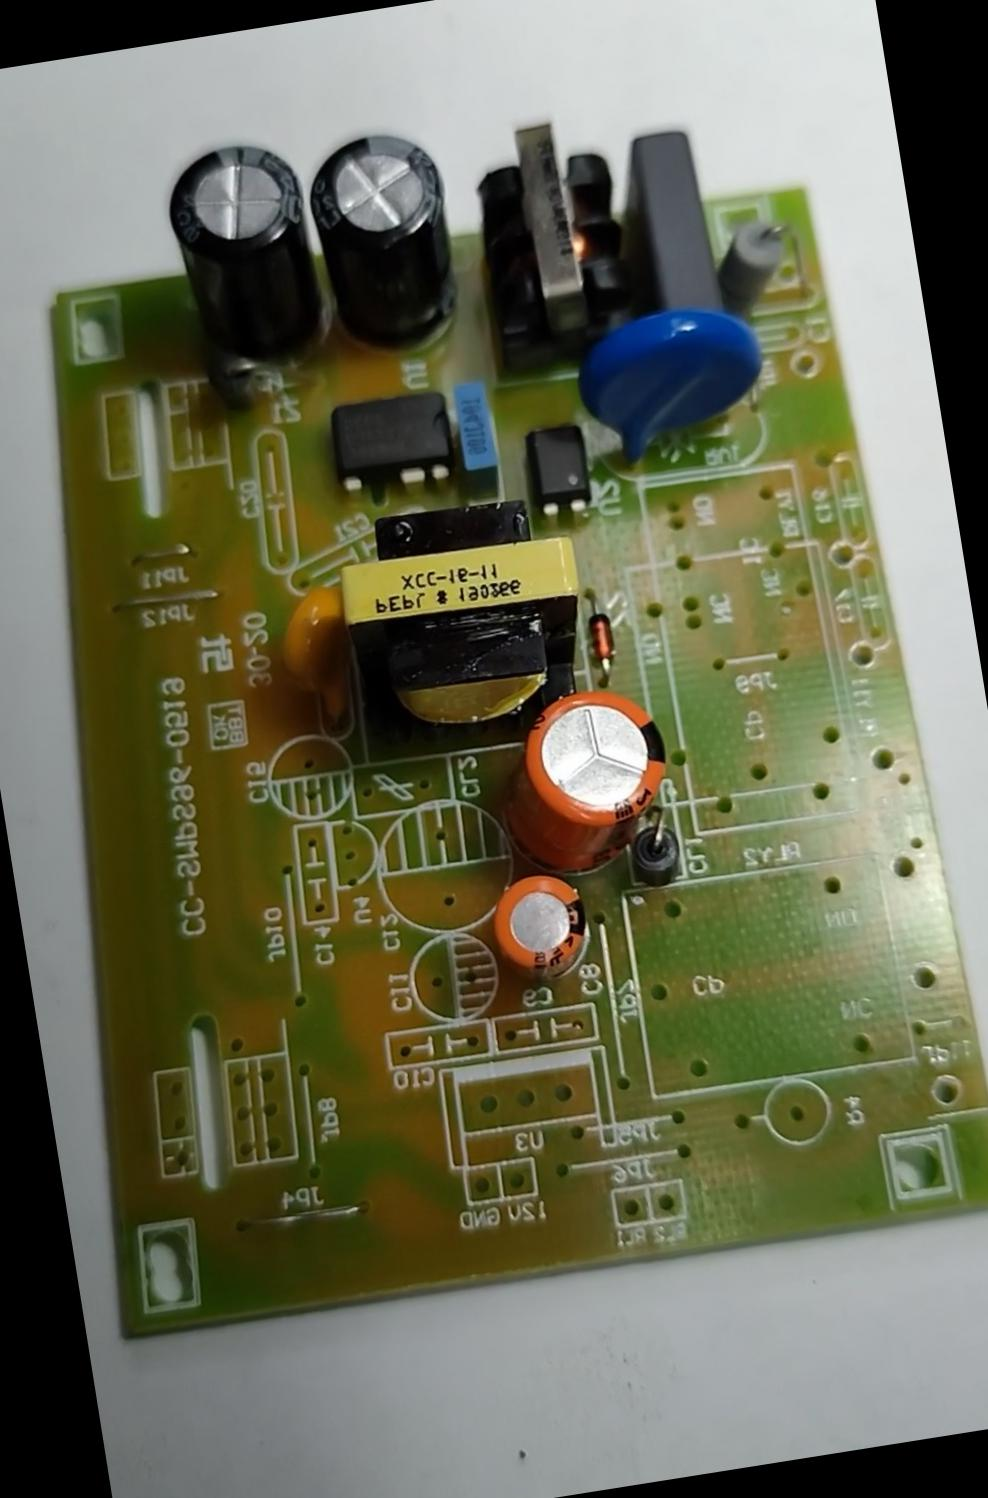Cap1: (494, 676, 686, 890)
Cap2: (483, 869, 597, 981)
Cap3: (302, 122, 466, 358)
Cap4: (161, 128, 323, 371)
MOSFET: (316, 377, 465, 498)
Mov: (565, 292, 783, 485)
Resistor: (713, 208, 802, 308)
Transformer: (318, 485, 606, 752), (459, 108, 643, 385)
